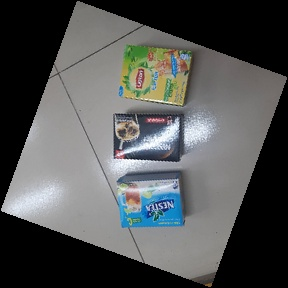CF Viet: (111, 111, 185, 163)
LipTon: (117, 43, 195, 108)
Nestea: (115, 170, 191, 231)
